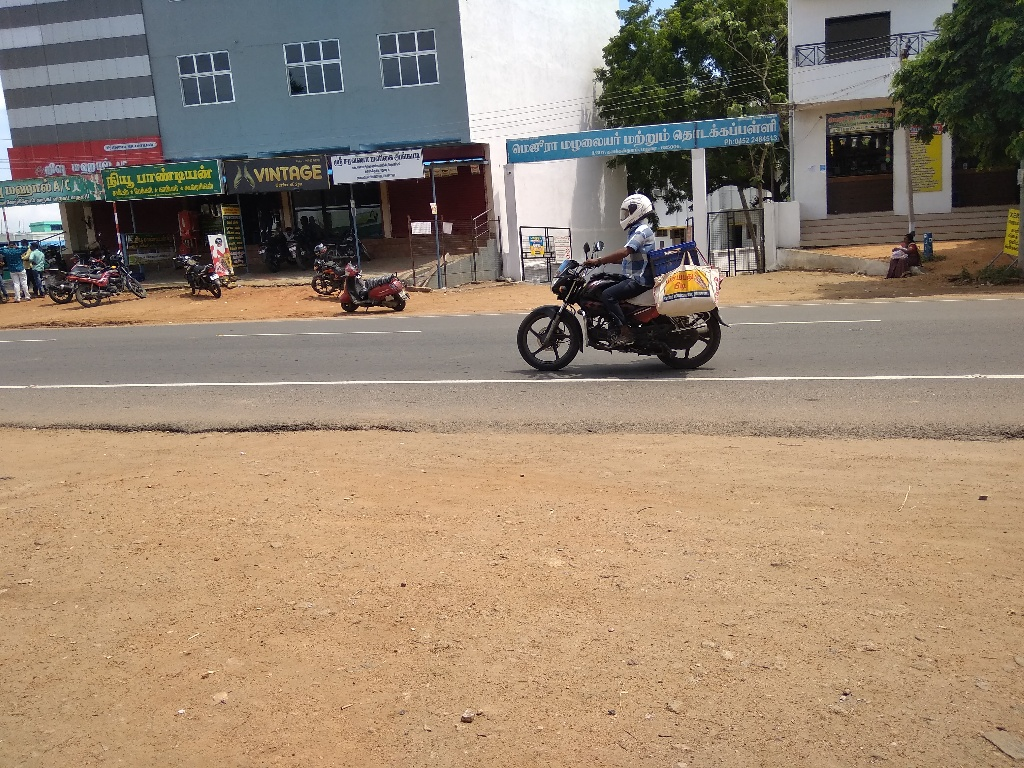biker: (505, 155, 741, 374)
helmet: (608, 179, 662, 248)
